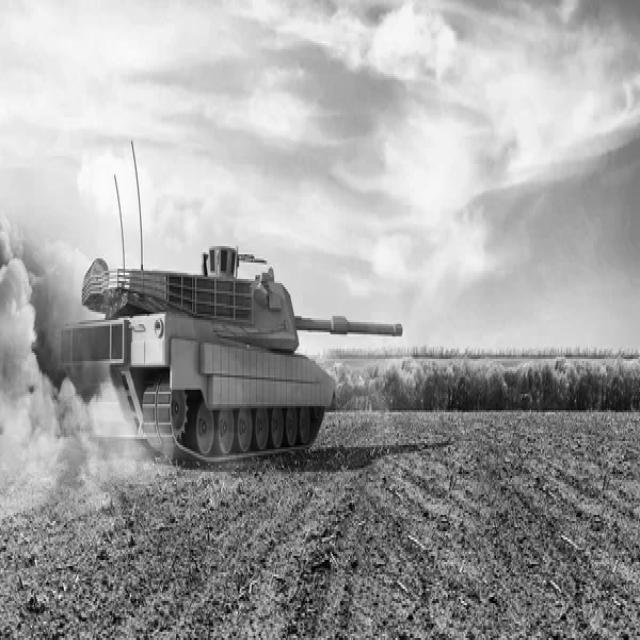Tank: (62, 241, 408, 478)
